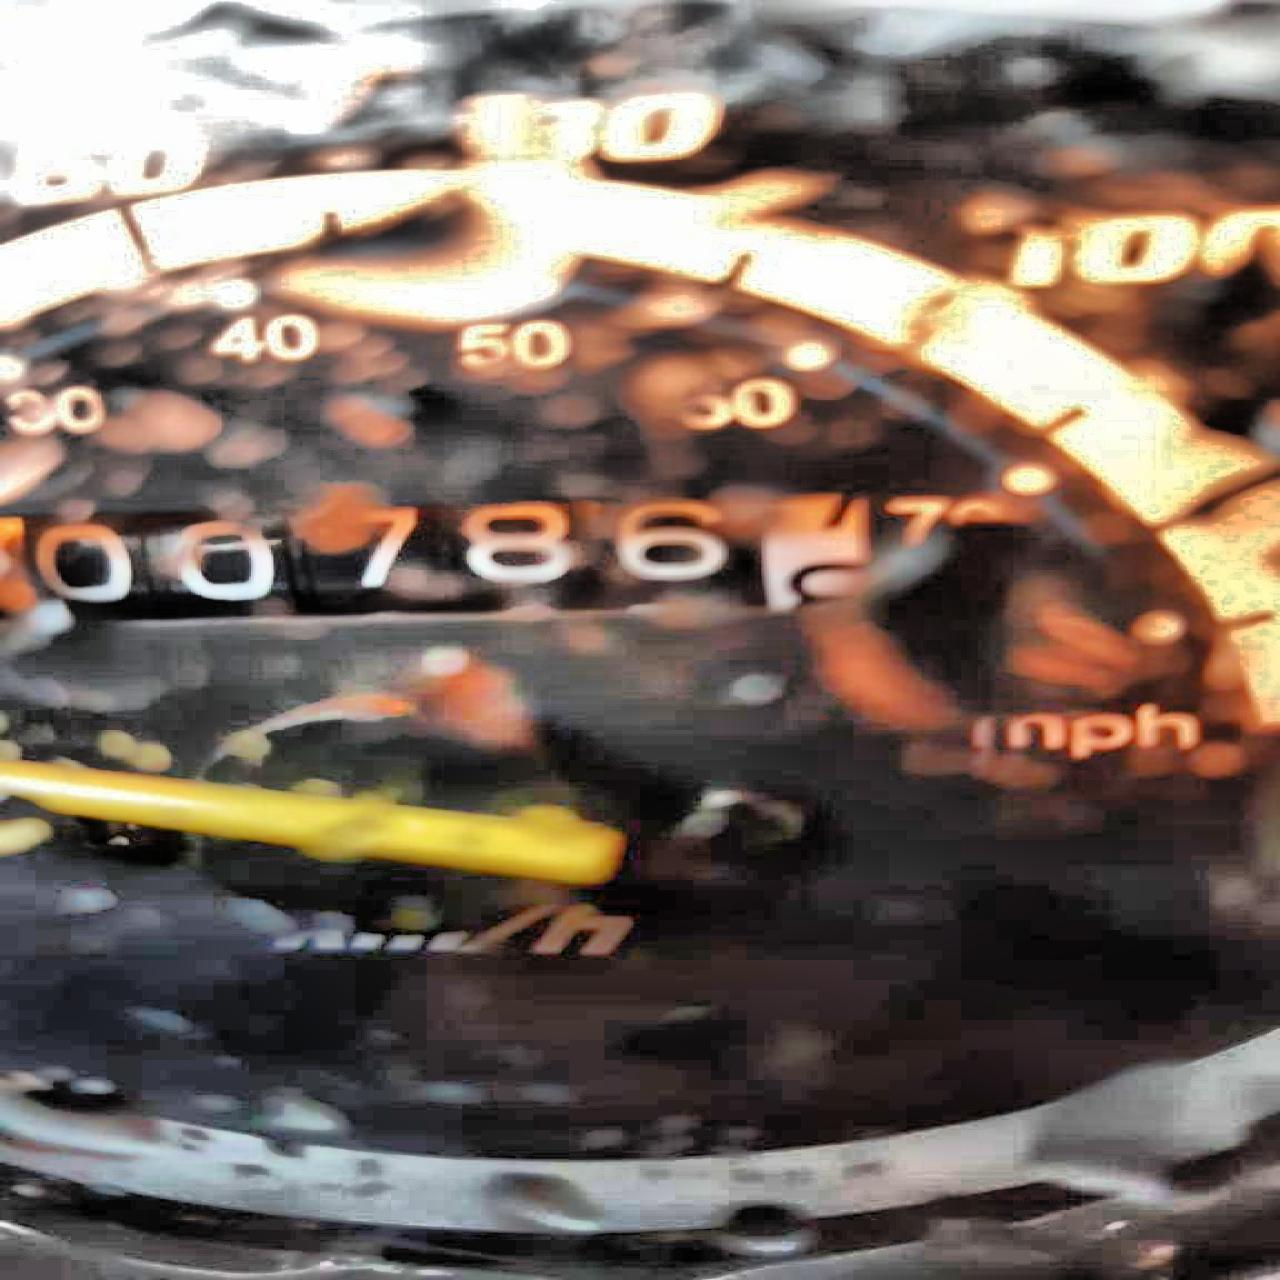0: (18, 512, 149, 615), (161, 512, 287, 608)
6: (610, 492, 731, 587)
7: (318, 498, 427, 597)
8: (449, 501, 591, 601), (769, 544, 893, 633)
odometer: (0, 477, 915, 641)
